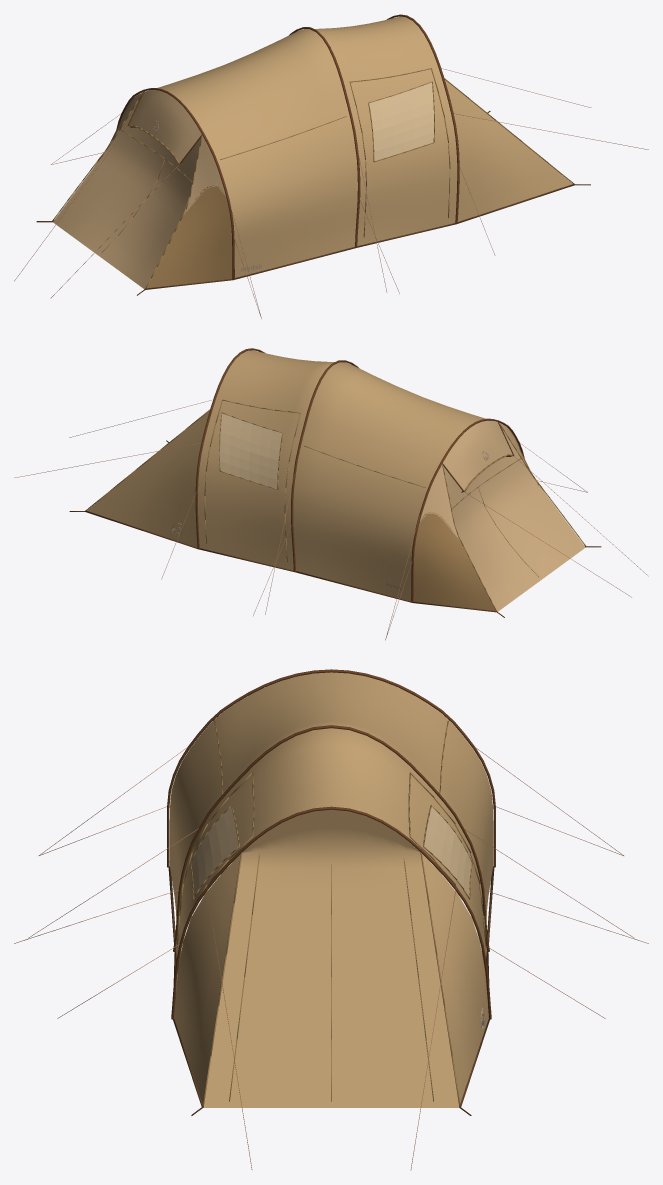
File: nordisk-reisa-4.glb
3 renders of one model, top to bottom at view 1: azimuth 30°, elevation 25°; view 2: azimuth 150°, elevation 25°; view 3: azimuth 270°, elevation 25°, orthographic. The views are drawn at different scales.
Parts seen in each view (by area): view 1: nordisk-reisa-4-fly, nordisk-reisa-4-hoodface, nordisk-reisa-4-taper, nordisk-reisa-4-window, nordisk-reisa-4-trim, nordisk-reisa-4-sleeve, nordisk-reisa-4-rope, nordisk-reisa-4-hem; view 2: nordisk-reisa-4-fly, nordisk-reisa-4-hoodface, nordisk-reisa-4-taper, nordisk-reisa-4-window, nordisk-reisa-4-trim, nordisk-reisa-4-sleeve, nordisk-reisa-4-rope, nordisk-reisa-4-hem; view 3: nordisk-reisa-4-fly, nordisk-reisa-4-sleeve, nordisk-reisa-4-trim, nordisk-reisa-4-window, nordisk-reisa-4-rope, nordisk-reisa-4-hem.
Part boxes in pixels (x1,y1,x2,y2): nordisk-reisa-4-fly: (122, 16, 572, 277); nordisk-reisa-4-hoodface: (53, 90, 225, 289); nordisk-reisa-4-taper: (95, 118, 232, 289); nordisk-reisa-4-window: (369, 82, 433, 161); nordisk-reisa-4-trim: (52, 68, 574, 289); nordisk-reisa-4-sleeve: (116, 14, 459, 279); nordisk-reisa-4-rope: (14, 68, 648, 318); nordisk-reisa-4-hem: (36, 111, 590, 295); nordisk-reisa-4-fly: (87, 350, 518, 600); nordisk-reisa-4-hoodface: (419, 420, 585, 611); nordisk-reisa-4-taper: (413, 448, 543, 612); nordisk-reisa-4-window: (220, 413, 282, 488); nordisk-reisa-4-trim: (86, 399, 586, 611); nordisk-reisa-4-sleeve: (195, 348, 524, 602); nordisk-reisa-4-rope: (14, 400, 648, 640); nordisk-reisa-4-hem: (69, 440, 601, 617); nordisk-reisa-4-fly: (169, 672, 493, 1107); nordisk-reisa-4-sleeve: (167, 669, 495, 1019); nordisk-reisa-4-trim: (174, 721, 488, 1107); nordisk-reisa-4-window: (191, 806, 471, 896); nordisk-reisa-4-rope: (14, 747, 648, 1170); nordisk-reisa-4-hem: (168, 866, 494, 1115).
Size of the model in its own units: 7.04 by 1.9 by 4.57.
